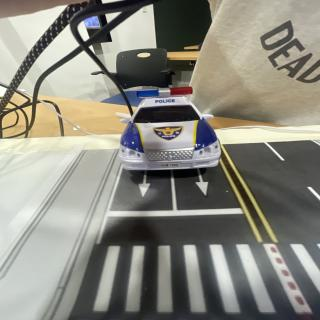Police_car: (119, 87, 221, 170)
